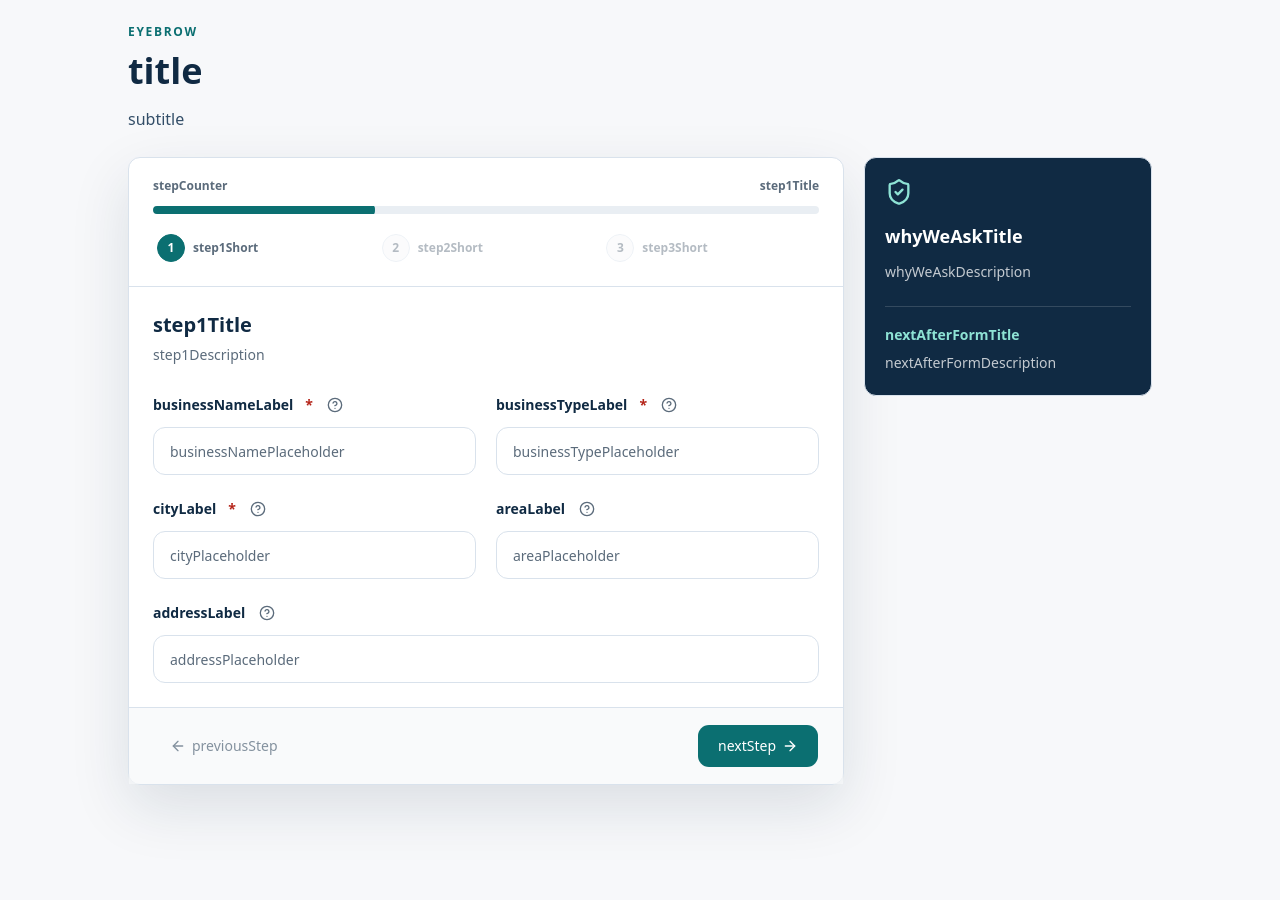
Test: IntakeForm › maps API errors to typed translation keys
The width and height of the screenshot is (1280, 900).
Type "Test Cafe" into the field with placeholder "businessNamePlaceholder" at (314,451), box 153,427 -> 476,475
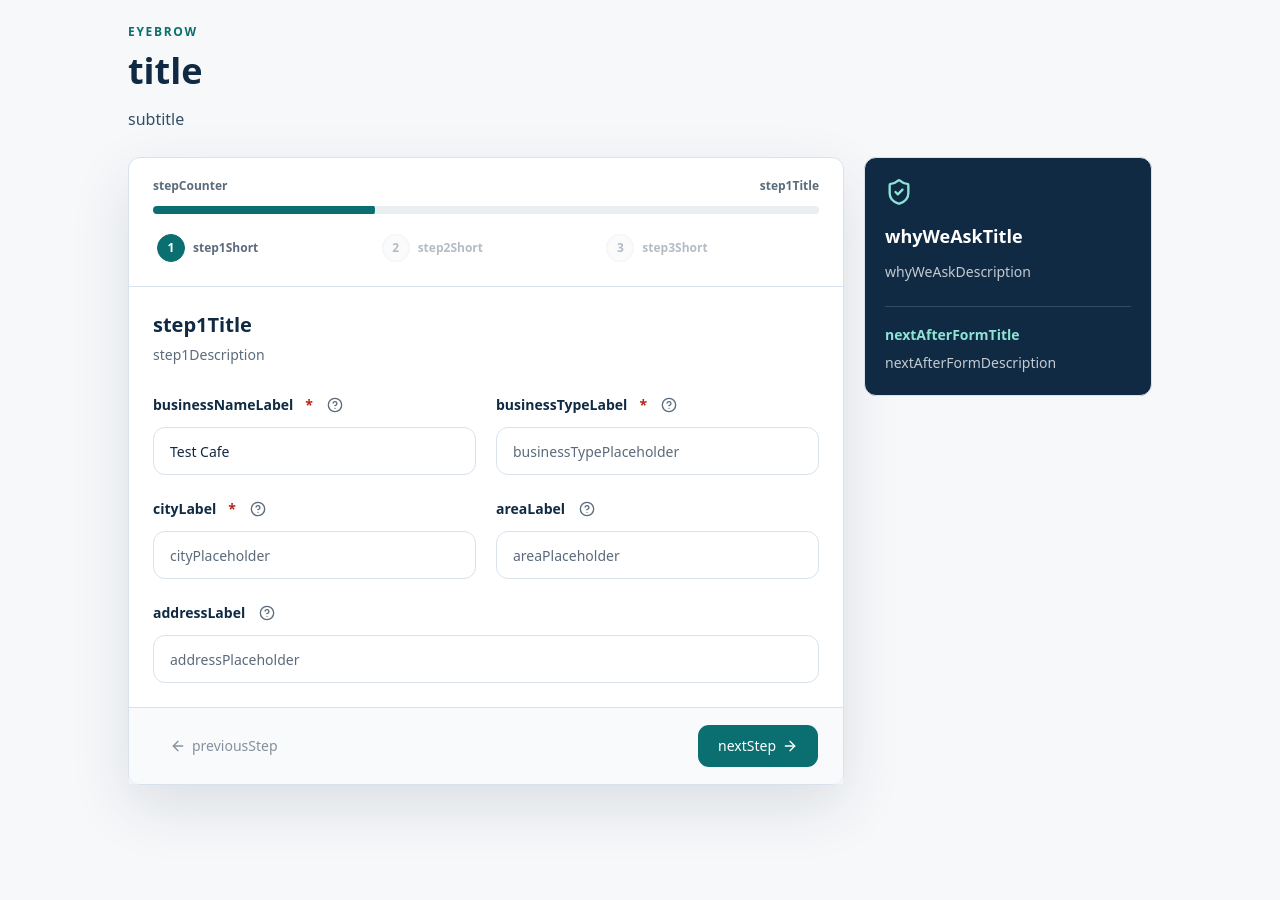
Type "Cafe" into the field with placeholder "businessTypePlaceholder" at (658,451), box 496,427 -> 819,475
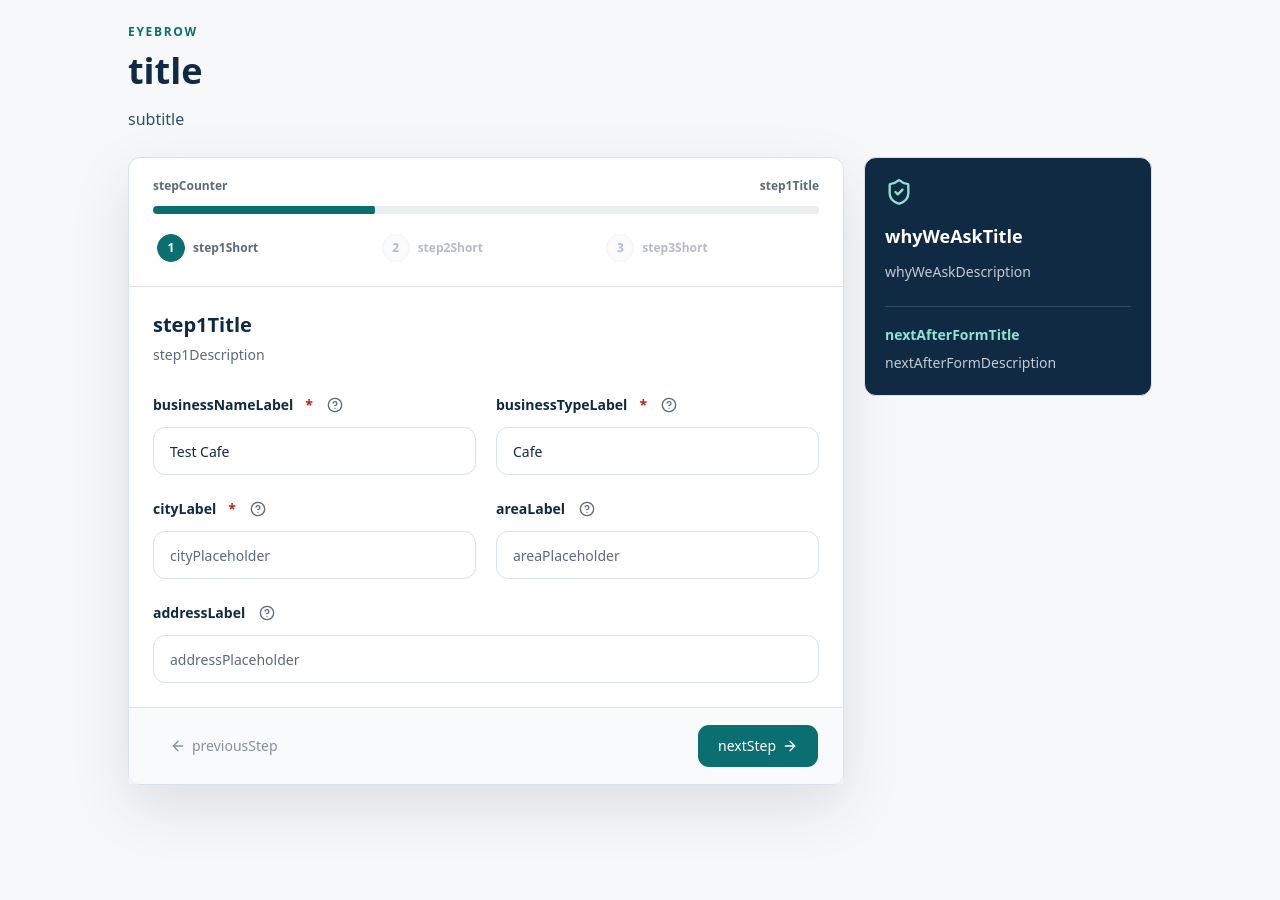
Type "Cairo" into the field with placeholder "cityPlaceholder" at (314,555), box 153,531 -> 476,579
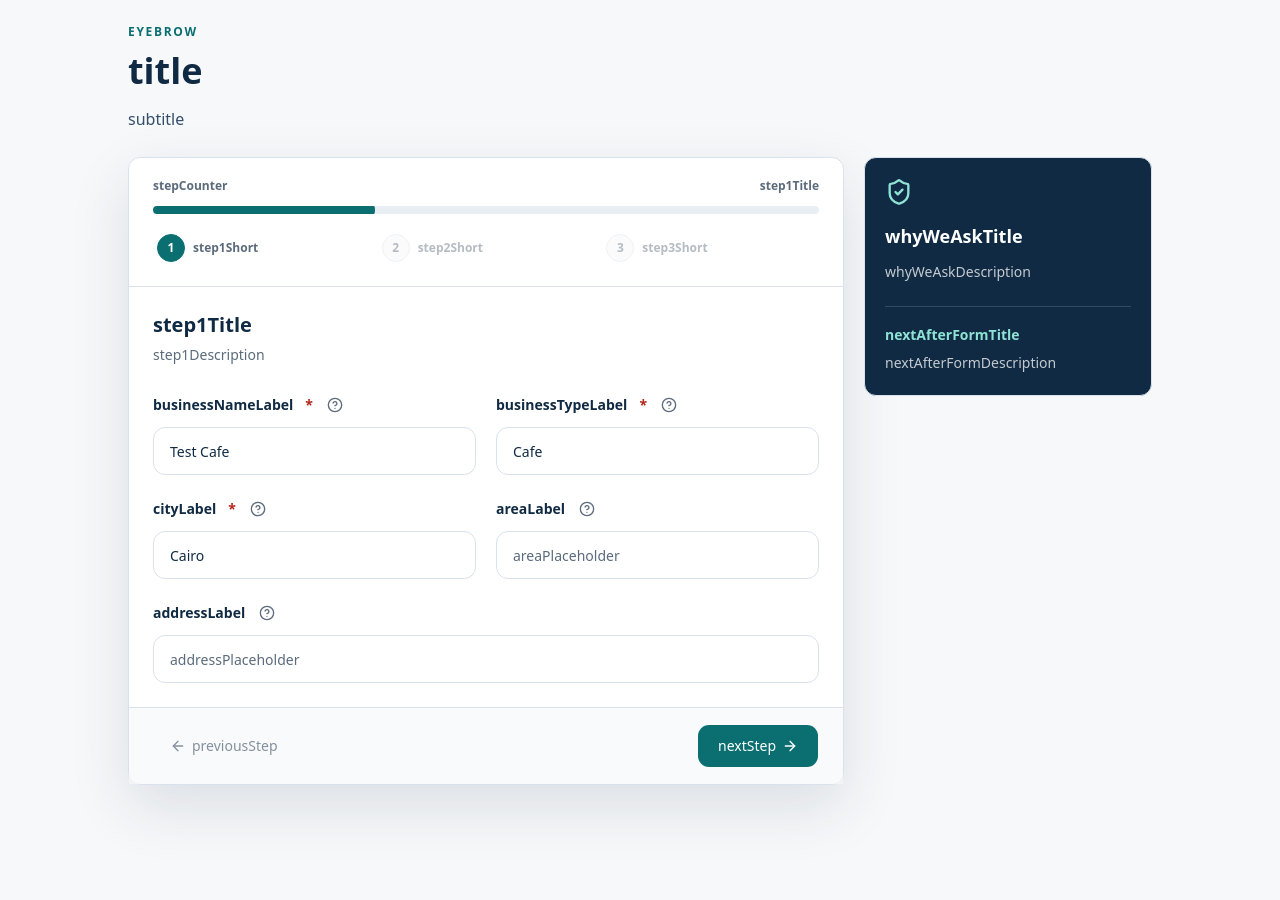
Click the button "nextStep" at (758,746), box 697,724 -> 819,768
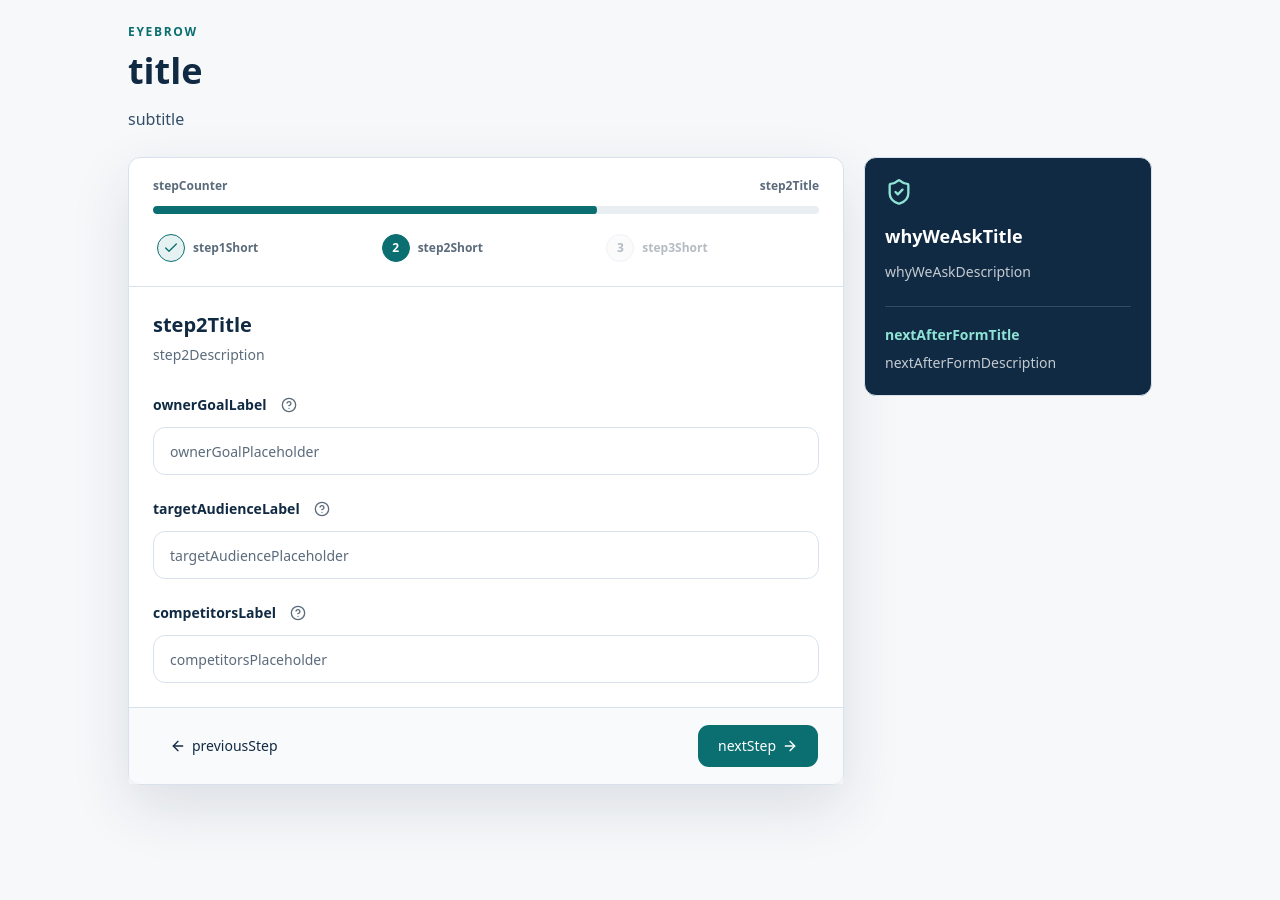
Click the button "nextStep" at (758,746), box 697,724 -> 819,768
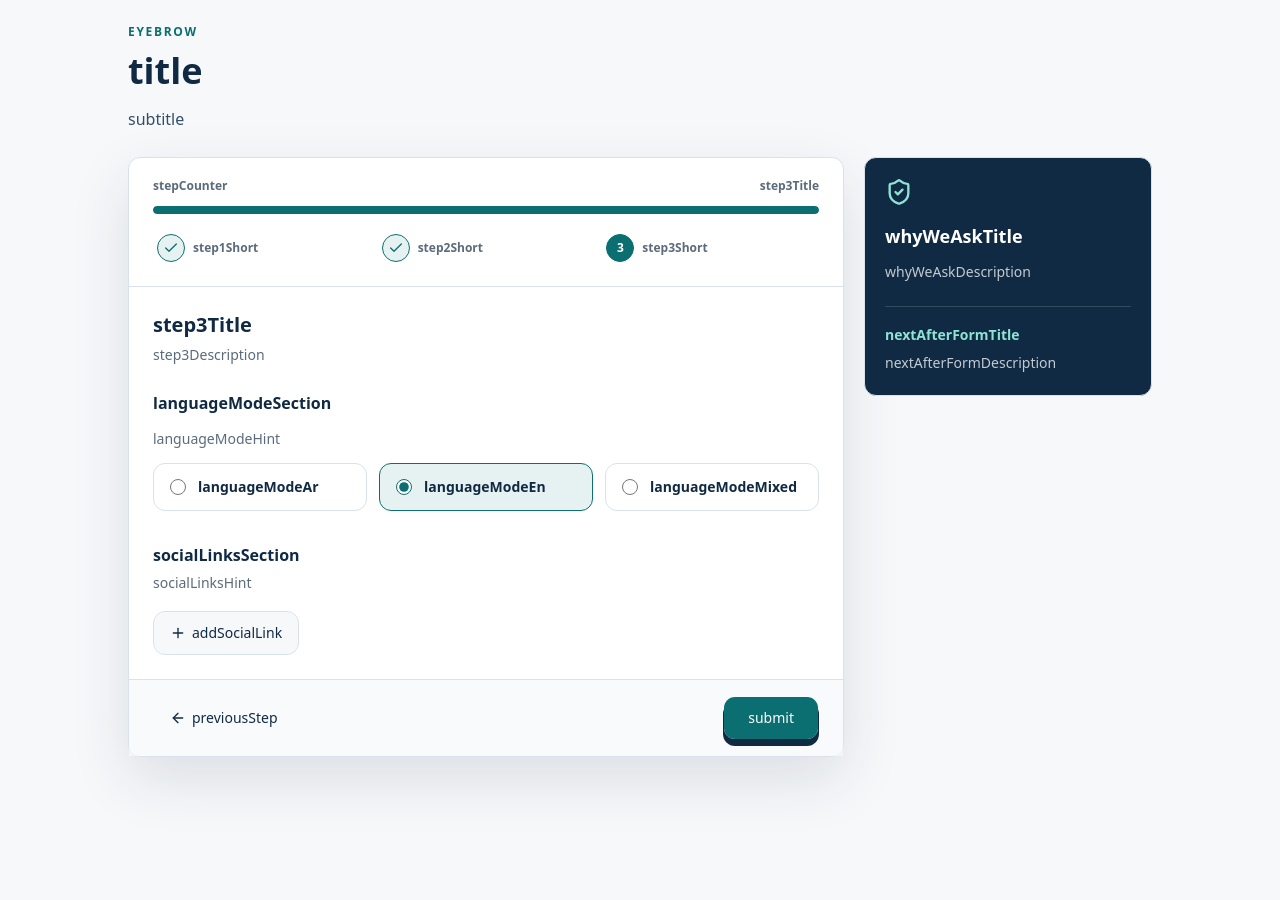
Click the button "submit" at (771,718), box 723,696 -> 819,740
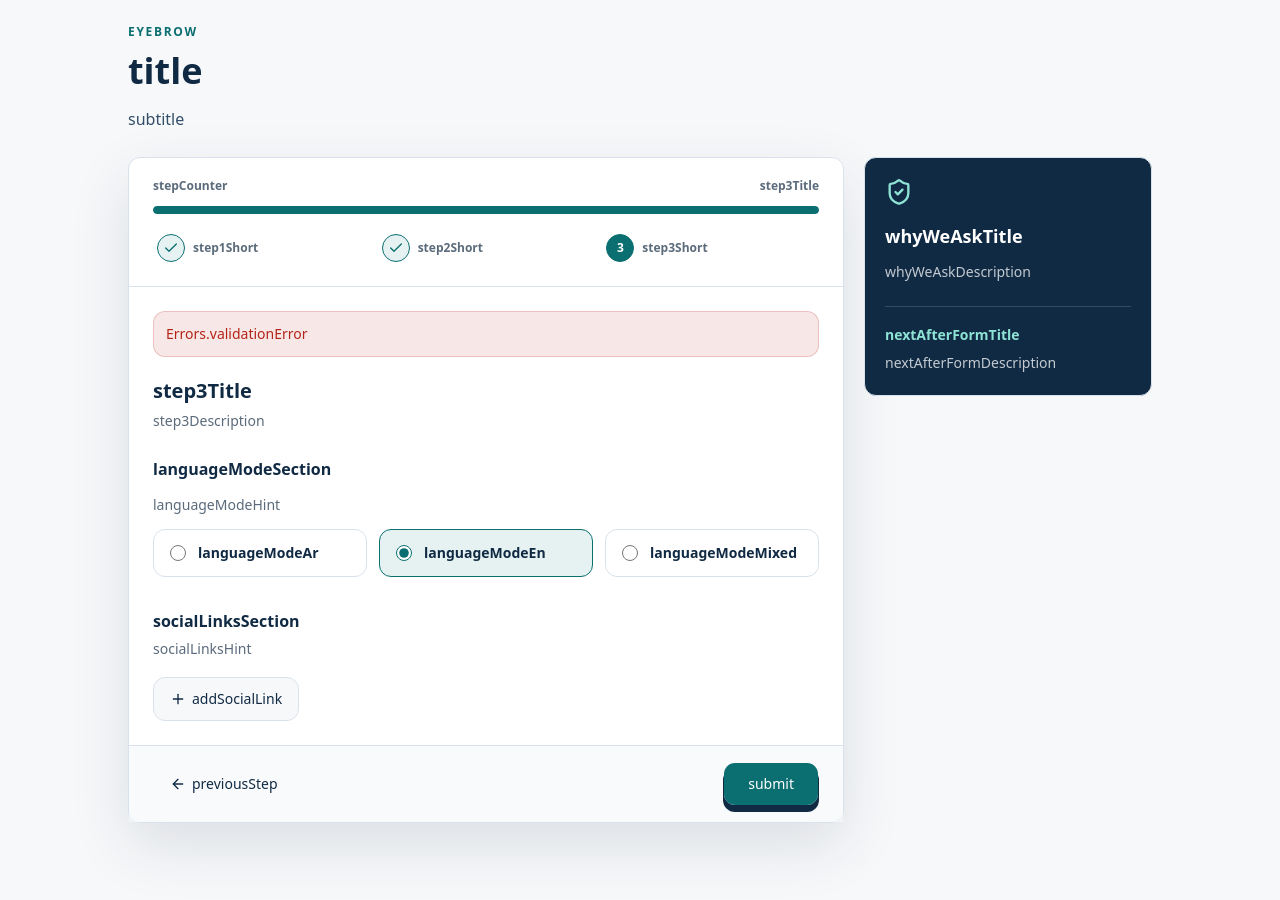
Check: the text "Errors.validationError" is shown, box 153,311 -> 819,357
